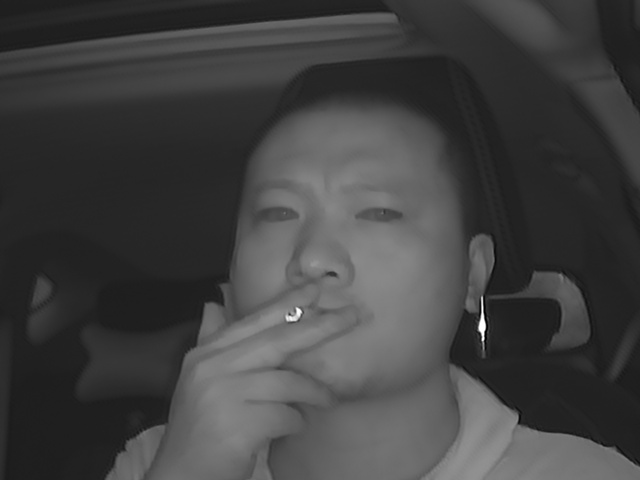hand: (202, 283, 359, 442)
